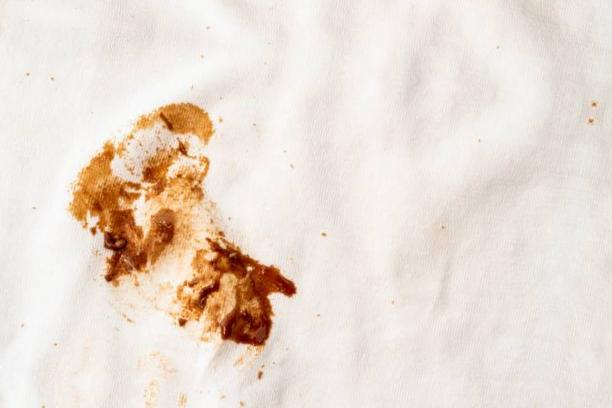stain: (68, 101, 303, 363)
